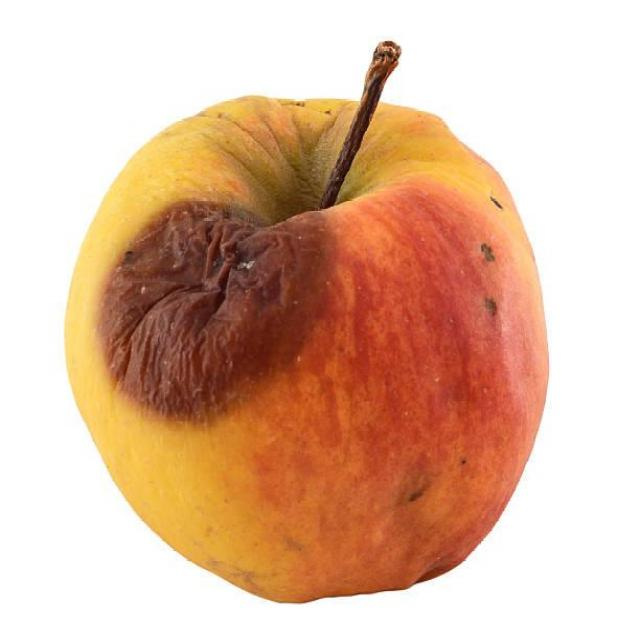Rotten: (64, 86, 548, 598)
